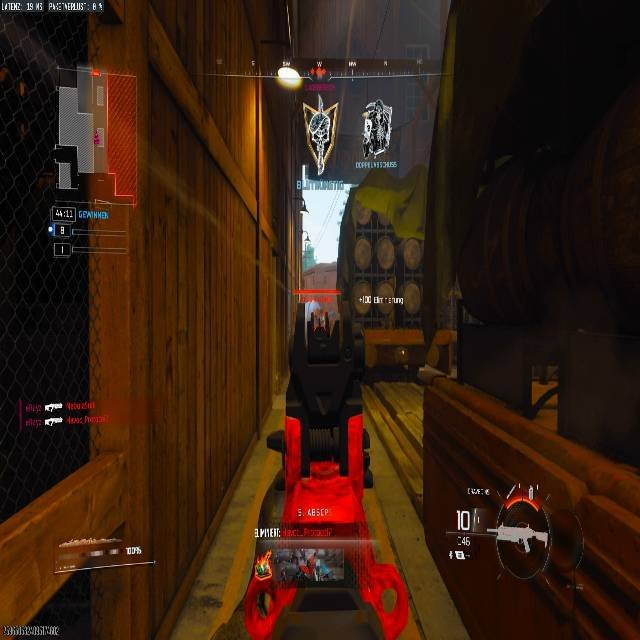player: (362, 99, 392, 159), (308, 300, 323, 332)
